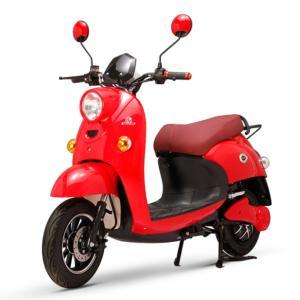motorbike: (41, 14, 273, 289)
